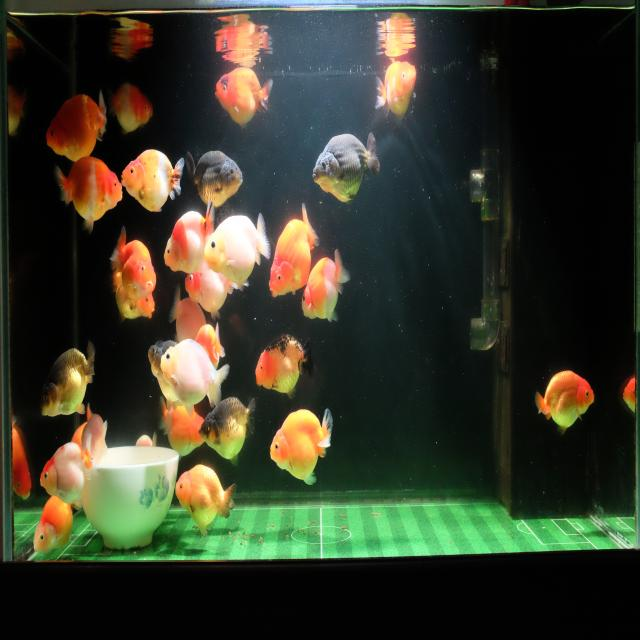Tilapia: (55, 153, 123, 235), (204, 211, 271, 293), (268, 404, 334, 487), (310, 130, 382, 204), (268, 202, 320, 300), (38, 336, 98, 420), (159, 337, 228, 410), (44, 88, 108, 162), (175, 463, 238, 538), (120, 147, 184, 215), (254, 332, 316, 402), (534, 368, 596, 437), (40, 432, 96, 508), (199, 396, 256, 469), (162, 198, 218, 272), (214, 66, 274, 132), (301, 246, 352, 323), (109, 226, 157, 306), (147, 339, 193, 415), (184, 148, 244, 206), (33, 488, 82, 556), (185, 268, 249, 318), (159, 399, 206, 459), (373, 58, 417, 121), (113, 268, 156, 324), (110, 81, 154, 135), (168, 282, 206, 343), (12, 416, 33, 503), (194, 319, 227, 371), (619, 375, 636, 415)
